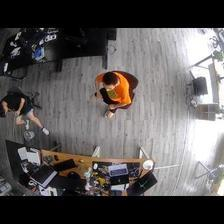normal: (1, 89, 51, 137), (90, 68, 133, 120)
